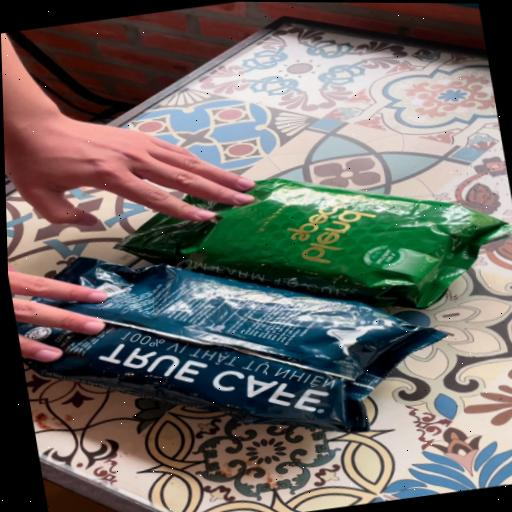cafe_hat: (15, 257, 445, 432)
cafe_xay: (117, 178, 512, 308)
